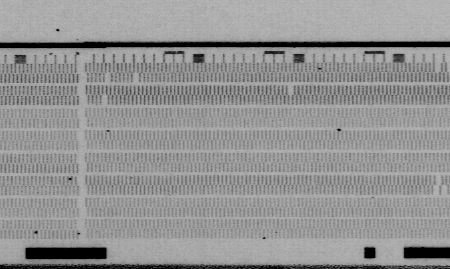Broken hole: (431, 175, 450, 195), (431, 63, 450, 74), (98, 93, 112, 106), (285, 84, 297, 96), (131, 73, 142, 85), (103, 73, 114, 84)
